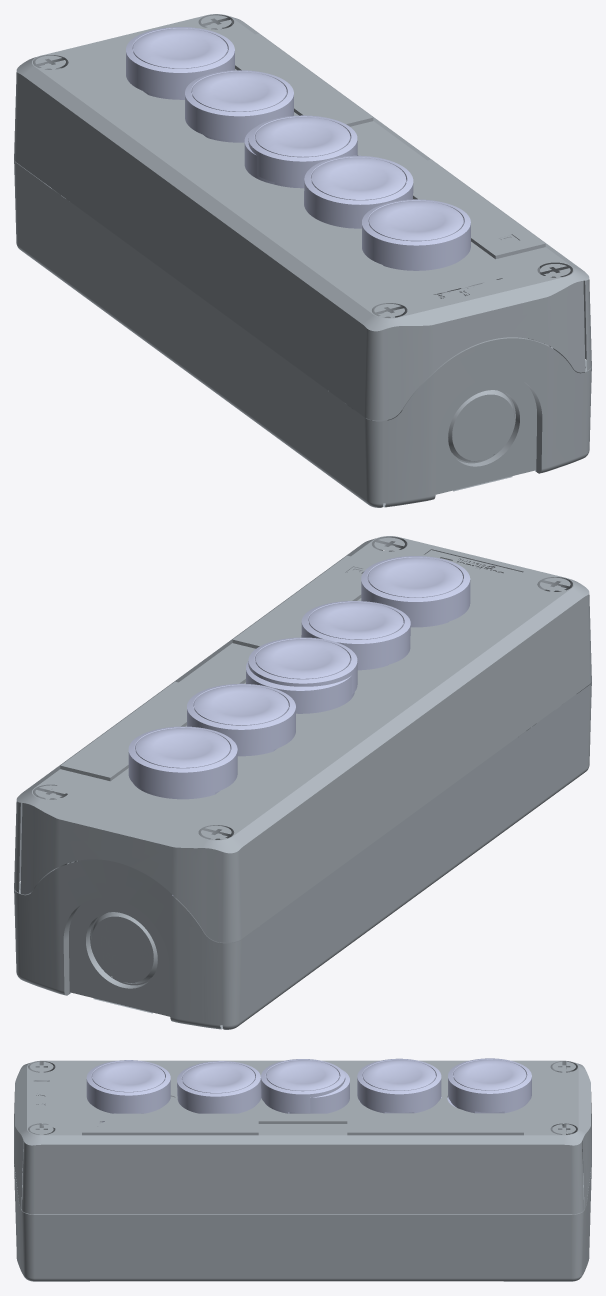
File: boite_5bp.glb
The picture shows the model from 3 angles, top to bottom: view 1: azimuth 30°, elevation 25°; view 2: azimuth 150°, elevation 25°; view 3: azimuth 270°, elevation 25°; orthographic projection. The views are drawn at different scales.
Visible parts, largest first — view 1: XALD05_SW0001, ZB5AA331stp002, ZB5AA331stp003001, ZB5AA331stp004001, ZB5AA331stp001001, ZB5AA331stp; view 2: XALD05_SW0001, ZB5AA331stp004001, ZB5AA331stp002, ZB5AA331stp003001, ZB5AA331stp001001, ZB5AA331stp, ZB5AA331stp002001; view 3: XALD05_SW0001, ZB5AA331stp004001, ZB5AA331stp003001, ZB5AA331stp002, ZB5AA331stp001001, ZB5AA331stp, ZB5AA331stp002001.
Boxes of the visible parts, <box> form: XALD05_SW0001: <box>14,14,591,507</box>; ZB5AA331stp002: <box>362,199,470,291</box>; ZB5AA331stp003001: <box>185,70,293,142</box>; ZB5AA331stp004001: <box>126,27,234,99</box>; ZB5AA331stp001001: <box>304,155,413,228</box>; ZB5AA331stp: <box>248,115,357,188</box>; XALD05_SW0001: <box>14,536,591,1029</box>; ZB5AA331stp004001: <box>128,726,237,799</box>; ZB5AA331stp002: <box>361,556,470,627</box>; ZB5AA331stp003001: <box>187,683,295,756</box>; ZB5AA331stp001001: <box>301,601,410,670</box>; ZB5AA331stp: <box>248,637,357,694</box>; ZB5AA331stp002001: <box>246,661,354,713</box>; XALD05_SW0001: <box>14,1060,591,1281</box>; ZB5AA331stp004001: <box>447,1058,531,1113</box>; ZB5AA331stp003001: <box>357,1058,441,1113</box>; ZB5AA331stp002: <box>86,1060,170,1122</box>; ZB5AA331stp001001: <box>177,1061,261,1113</box>; ZB5AA331stp: <box>261,1059,344,1113</box>; ZB5AA331stp002001: <box>289,1069,349,1113</box>.
Size of the model in its own units: 0.068 by 0.0628 by 0.196.
